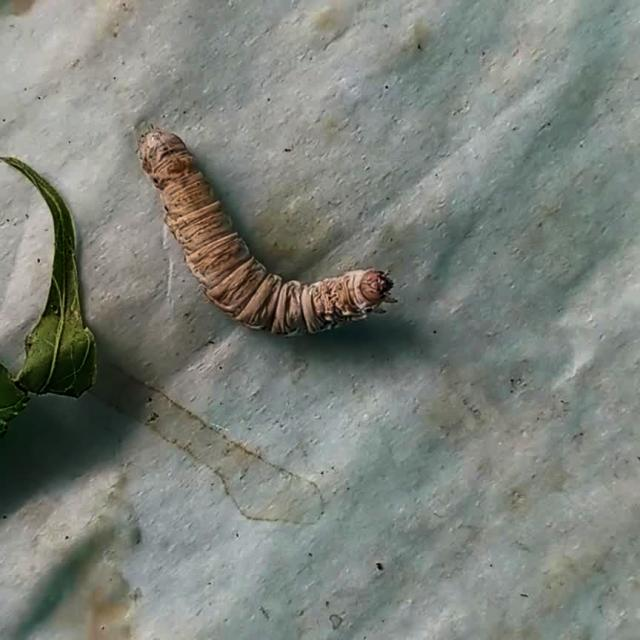Grasserie: (110, 106, 419, 354)
